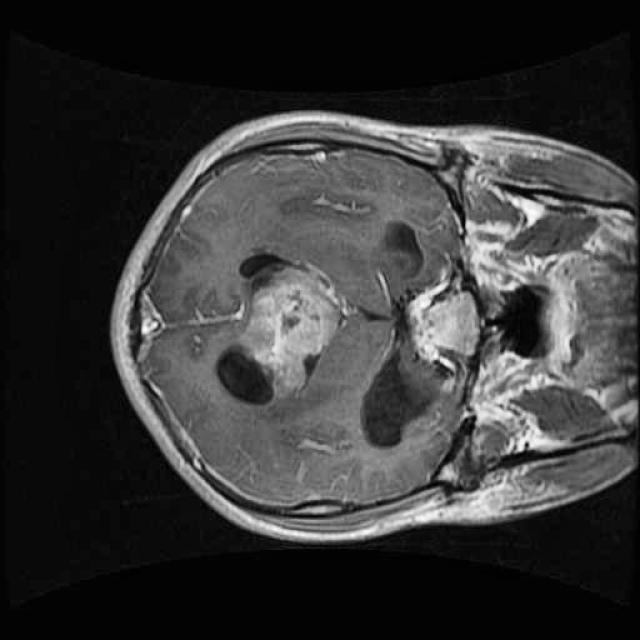Tumor: (226, 256, 360, 409)
